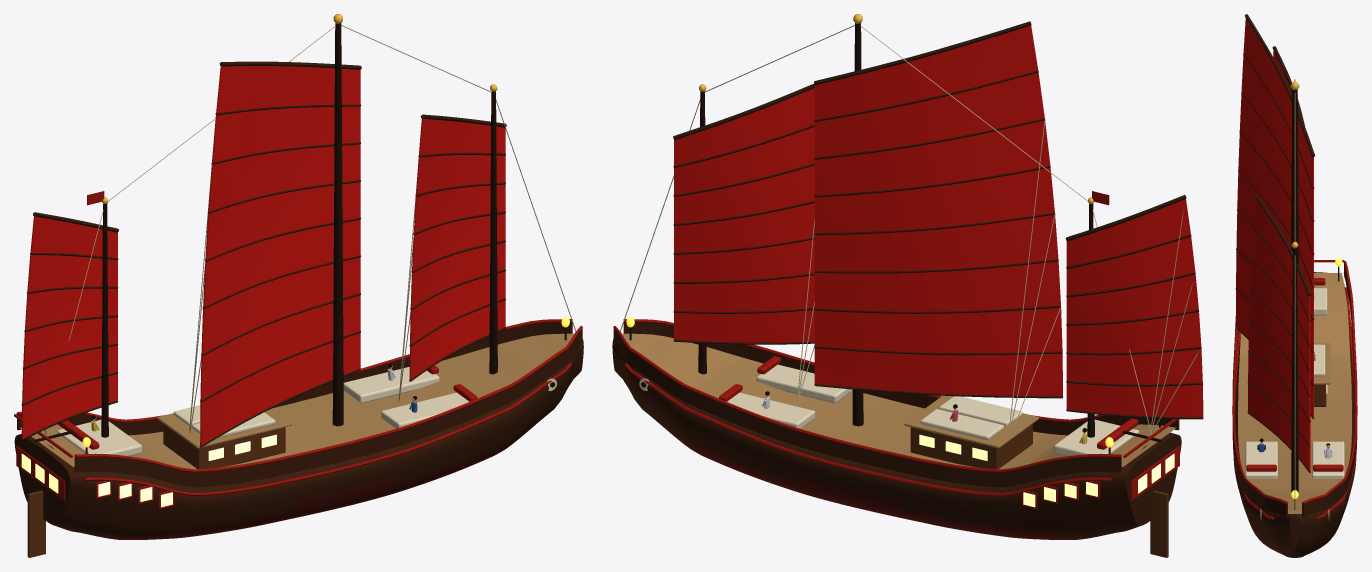
Rendered from junk.glb.
3 renders of one model, left to right at view 1: azimuth 30°, elevation 25°; view 2: azimuth 150°, elevation 25°; view 3: azimuth 270°, elevation 25°, orthographic. The views are drawn at different scales.
Parts seen in each view (by area): view 1: hull; view 2: hull; view 3: hull.
Boxes of the visible parts, box(x1,y1,x2,y2) form: hull: box(14, 14, 583, 557); hull: box(612, 14, 1203, 557); hull: box(1232, 14, 1357, 557).
Size of the model in its own units: 30.27 by 24.39 by 6.57.
